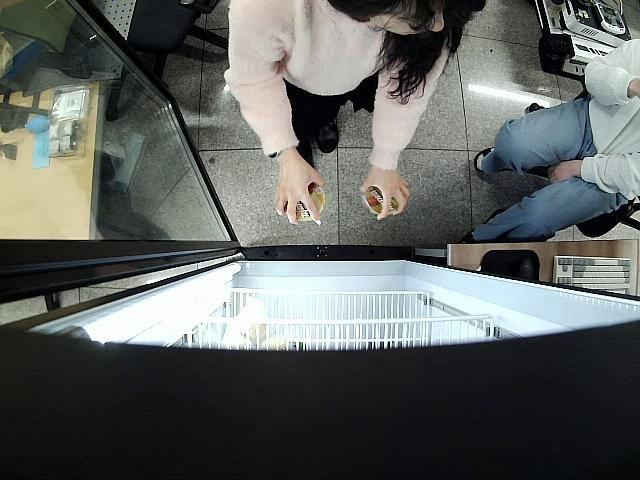04_chapagetti_S: (287, 183, 327, 224), (364, 184, 406, 220)
